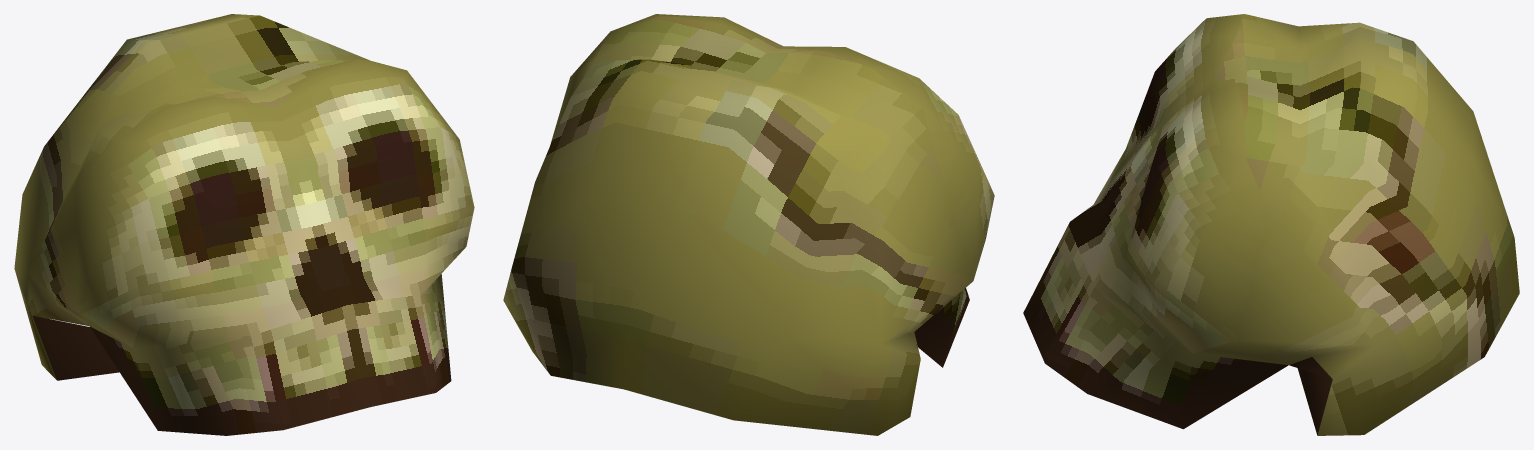
Rendered from SkullPot.fbx.
3 renders of one model, left to right at view 1: azimuth 30°, elevation 25°; view 2: azimuth 150°, elevation 25°; view 3: azimuth 270°, elevation 25°, orthographic. The views are drawn at different scales.
Visible parts, largest first — view 1: vsn_mesh_0_PotSkull; view 2: vsn_mesh_0_PotSkull; view 3: vsn_mesh_0_PotSkull.
Boxes of the visible parts, box(x1,y1,x2,y2) form: vsn_mesh_0_PotSkull: box(14, 14, 474, 435); vsn_mesh_0_PotSkull: box(503, 14, 994, 435); vsn_mesh_0_PotSkull: box(1023, 14, 1519, 435).
Size of the model in its own units: 0.7453 by 0.5784 by 0.8328.
